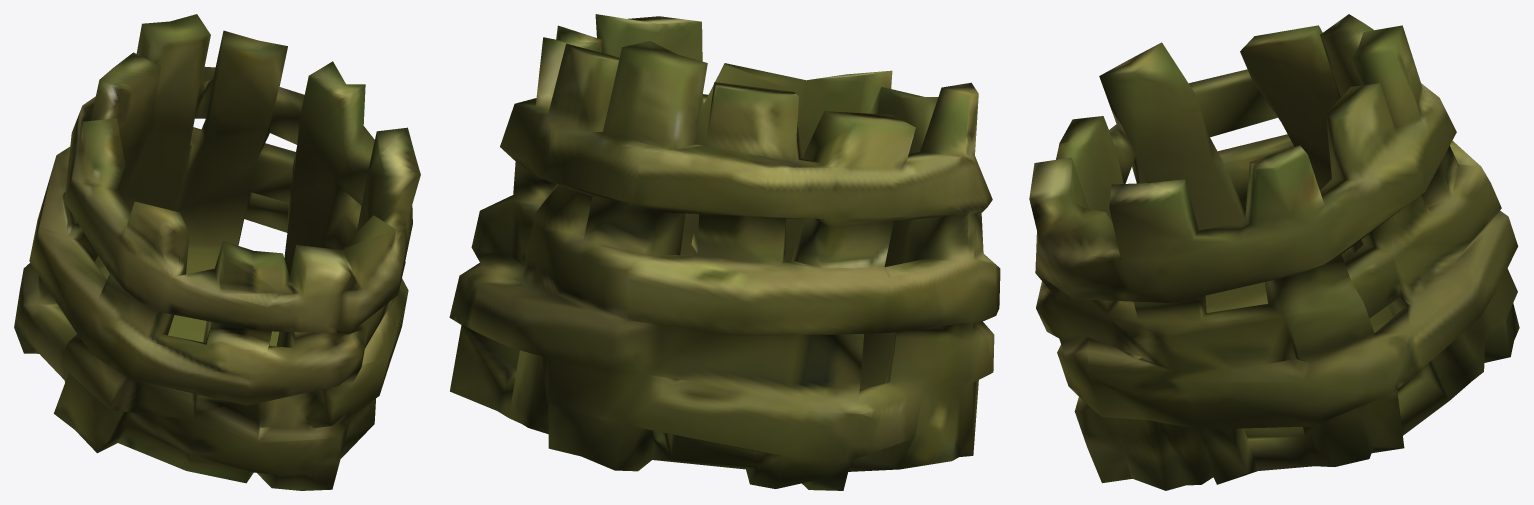
Rendered from FoodSack.glb.
The picture shows the model from 3 angles, left to right: view 1: azimuth 30°, elevation 25°; view 2: azimuth 150°, elevation 25°; view 3: azimuth 270°, elevation 25°; orthographic projection. The views are drawn at different scales.
Parts seen in each view (by area): view 1: FoodSack; view 2: FoodSack; view 3: FoodSack.
Boxes of the visible parts, <box> form: FoodSack: <box>14,14,420,490</box>; FoodSack: <box>449,14,1000,490</box>; FoodSack: <box>1029,14,1519,490</box>.
Size of the model in its own units: 0.9124 by 0.9637 by 1.
1 material, 1 textured.
